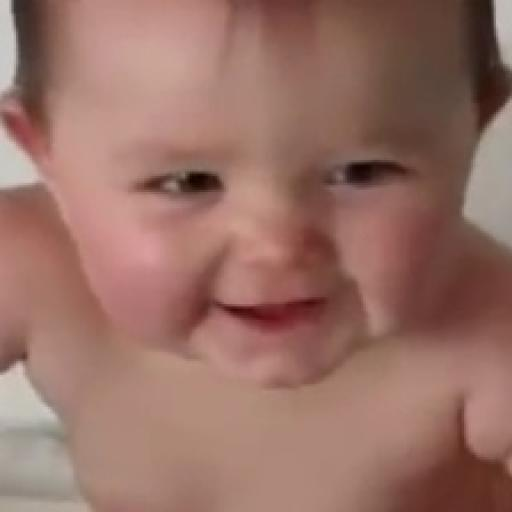Autism: (34, 0, 485, 448)
